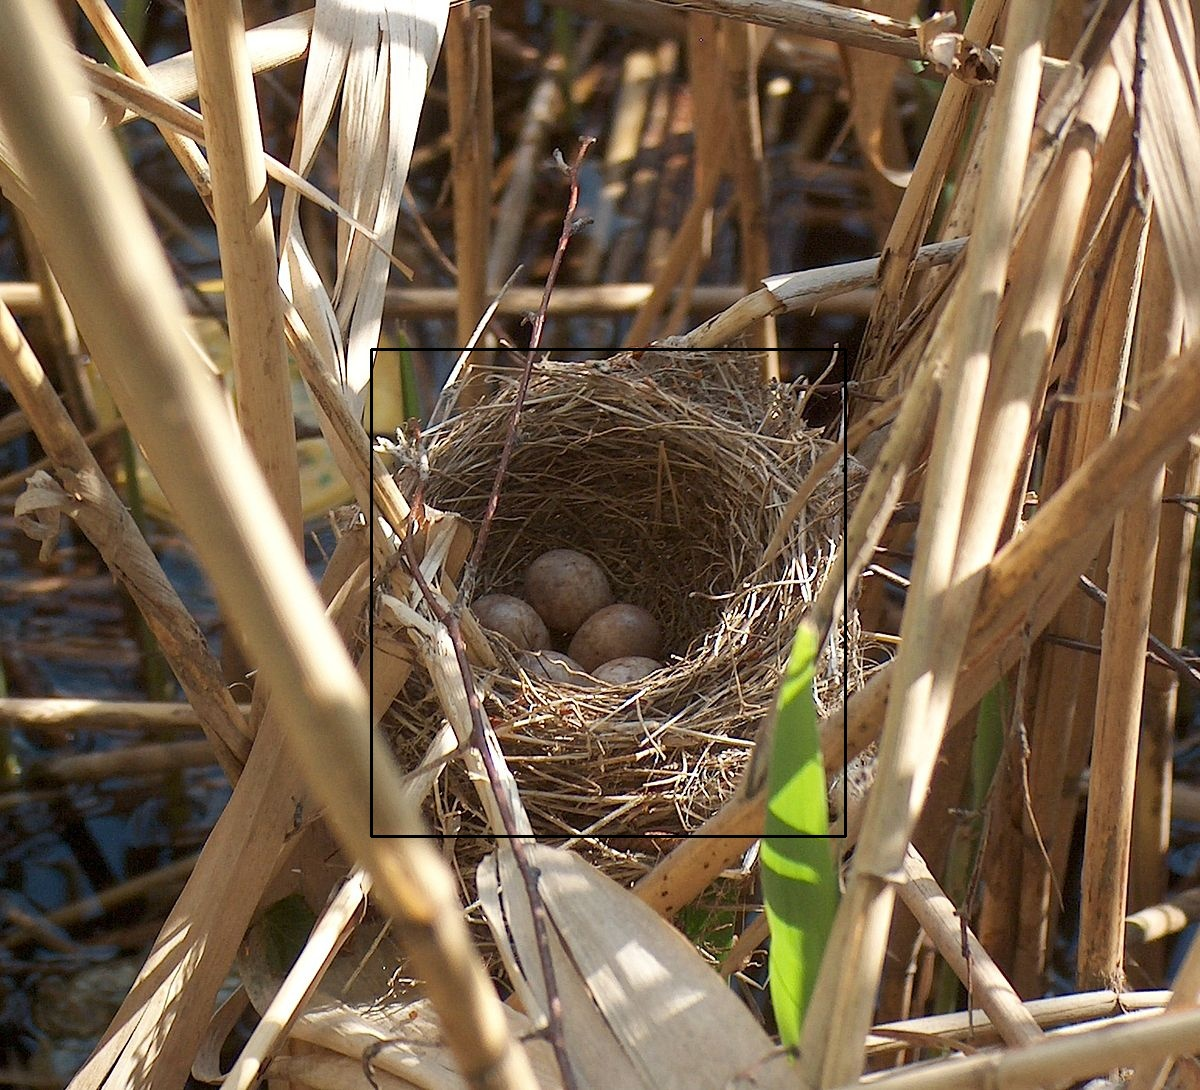bird-nest: (371, 349, 845, 836)
